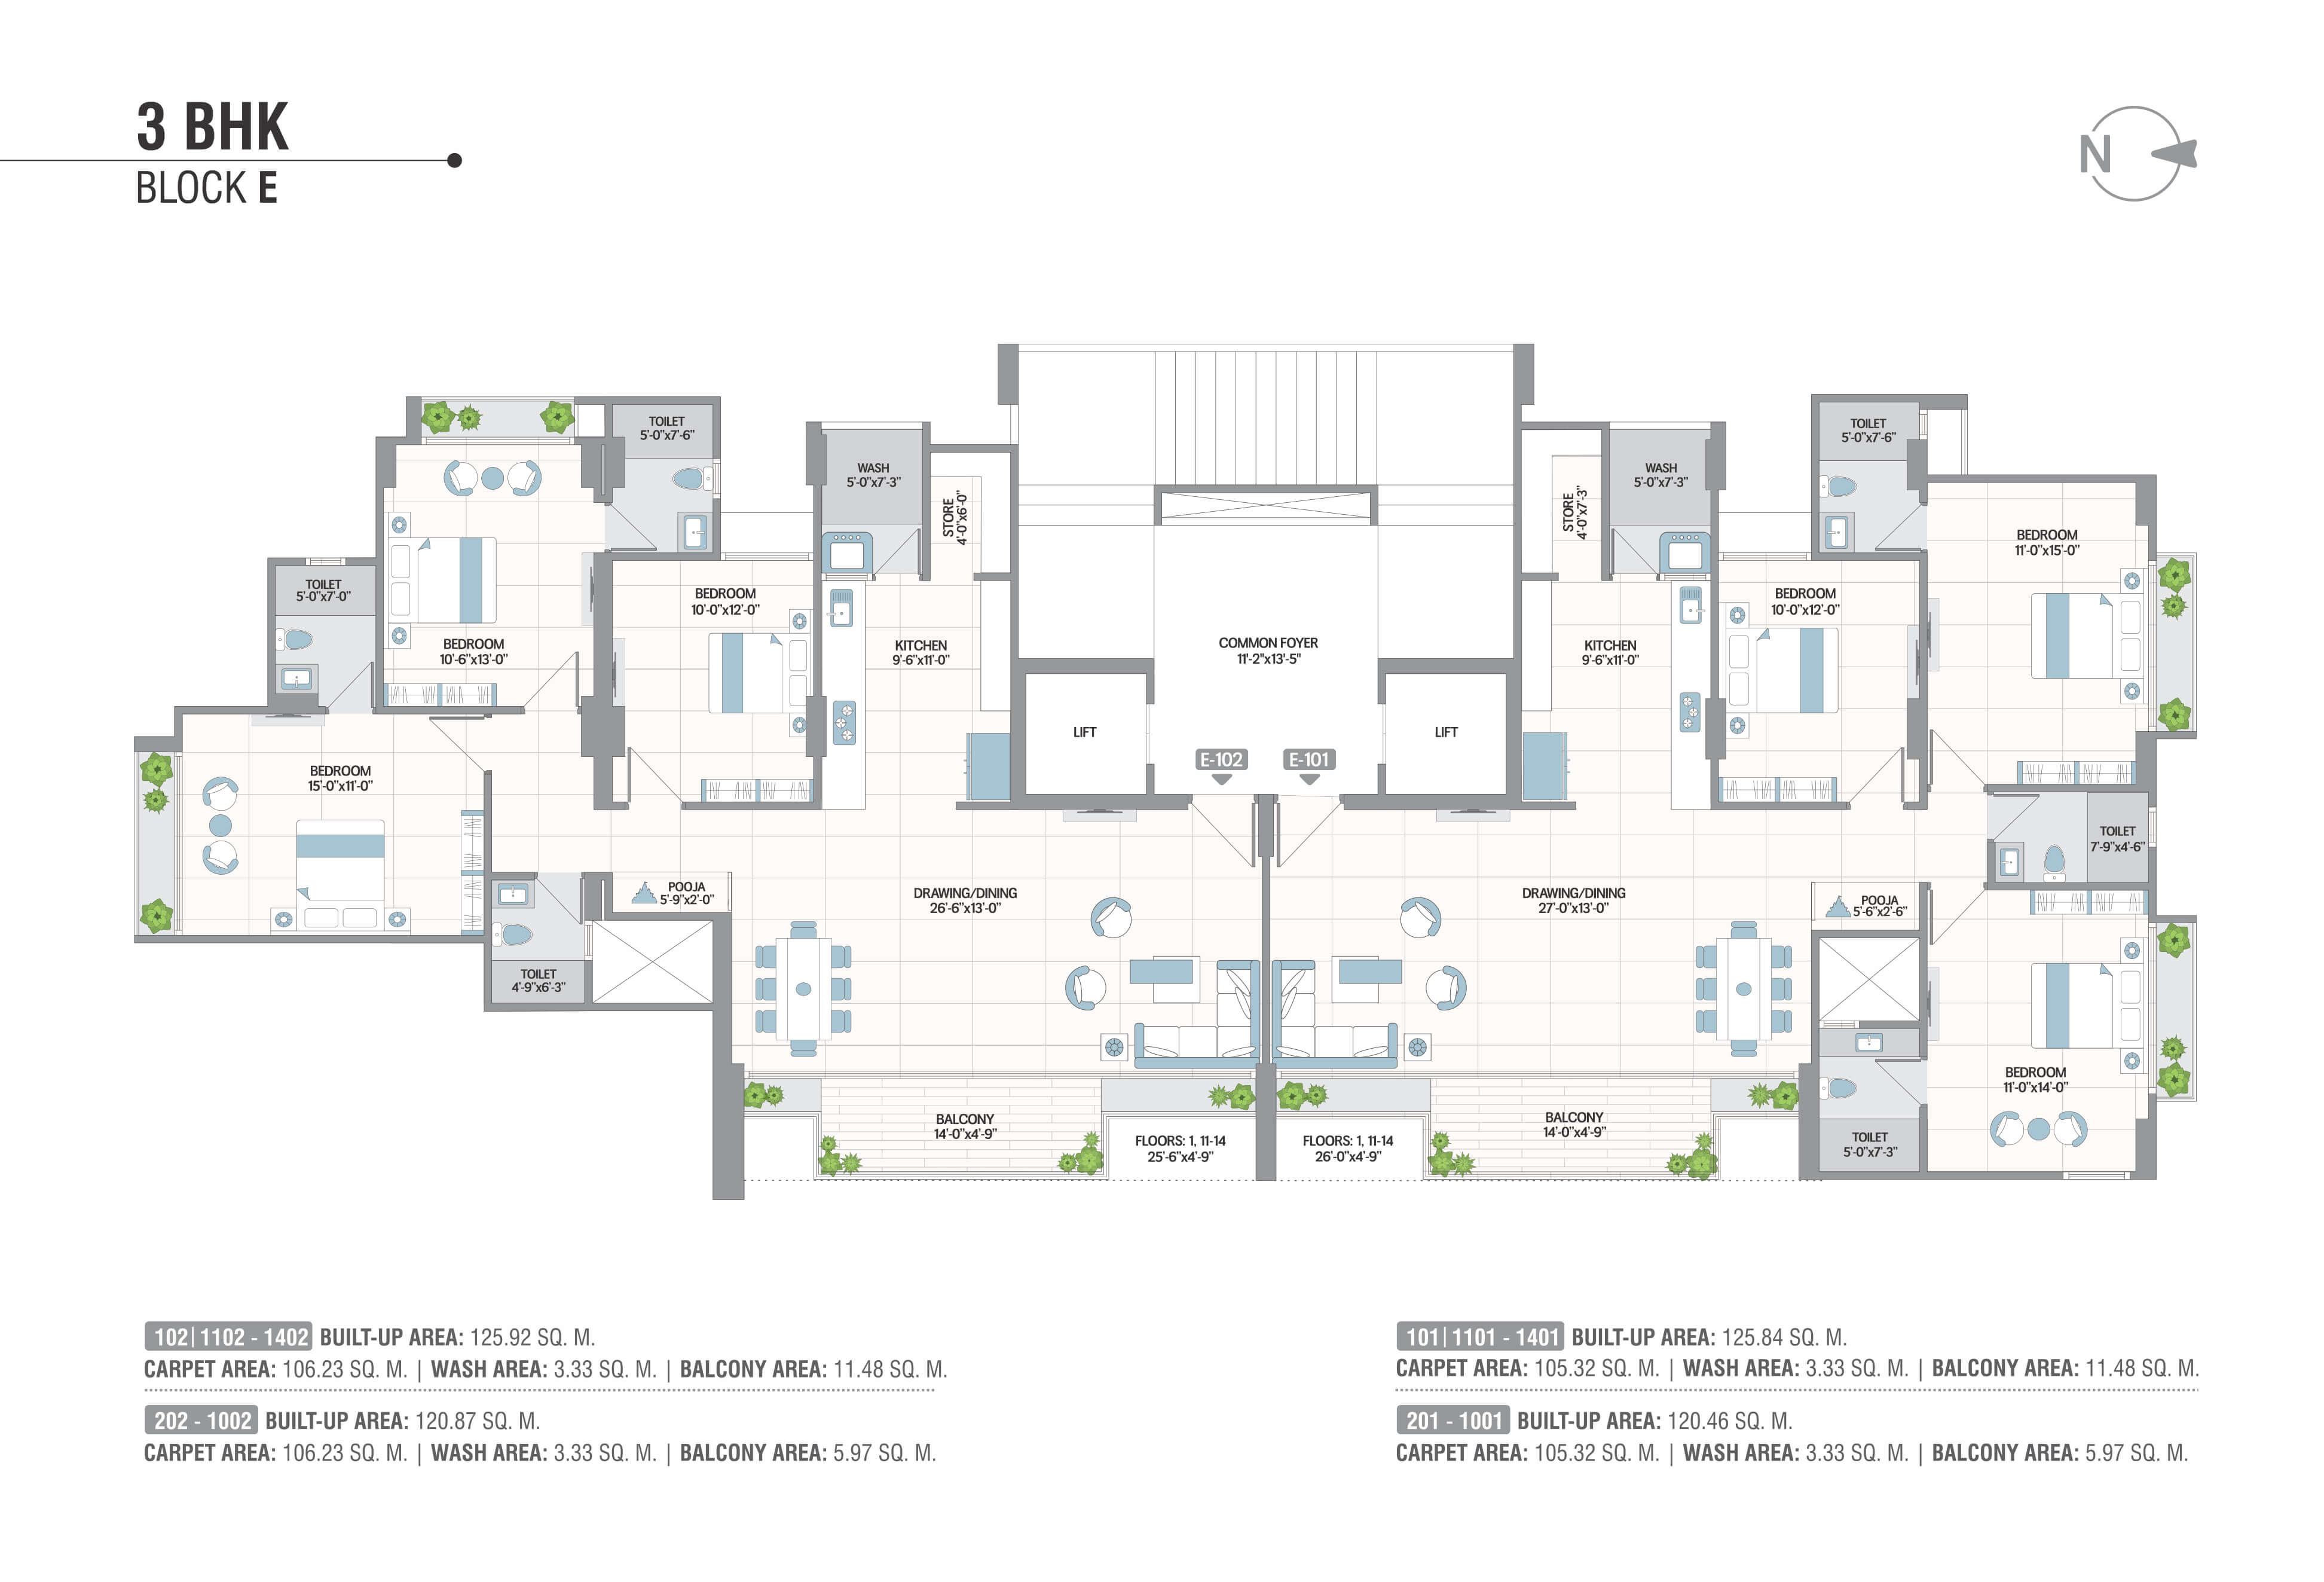window: (1274, 1066, 1802, 1082), (741, 1068, 1258, 1081), (173, 750, 185, 938), (2148, 558, 2160, 734), (2148, 920, 2160, 1096), (418, 434, 577, 447), (1715, 551, 1814, 563), (720, 551, 815, 563), (882, 908, 978, 918), (2061, 1169, 2132, 1181), (709, 457, 725, 501), (2146, 803, 2160, 851), (582, 918, 595, 962), (304, 556, 348, 567), (1818, 1019, 1860, 1029), (1918, 408, 1930, 443)
